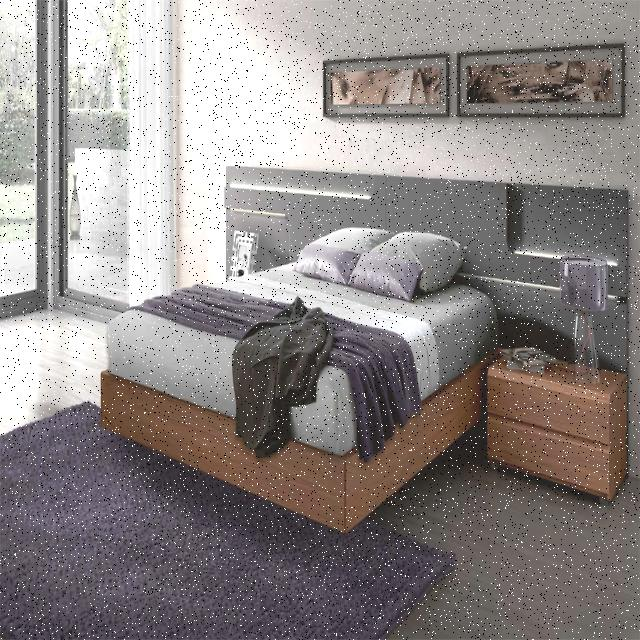bed: (95, 208, 483, 439)
